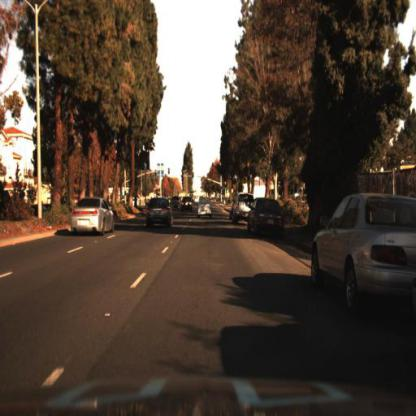car: (310, 193, 416, 317), (70, 198, 116, 238), (245, 195, 286, 235), (143, 197, 178, 232), (233, 191, 255, 226), (196, 197, 215, 220), (180, 196, 195, 217), (169, 195, 183, 216)
